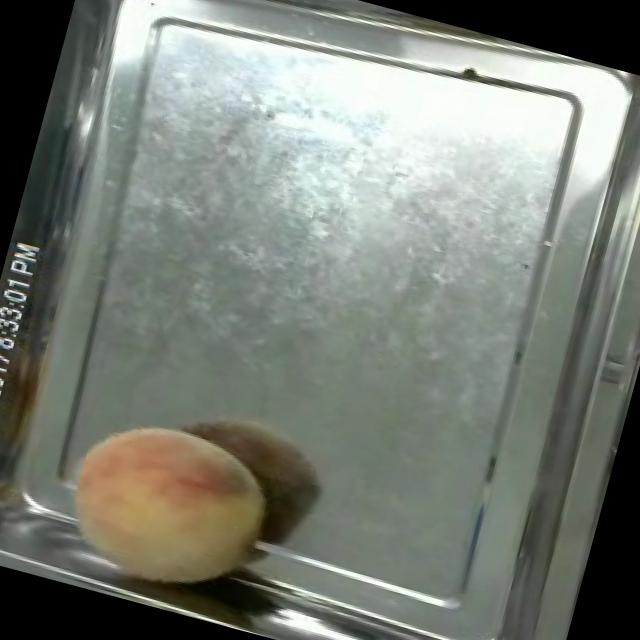Fruit: (41, 392, 291, 620)
